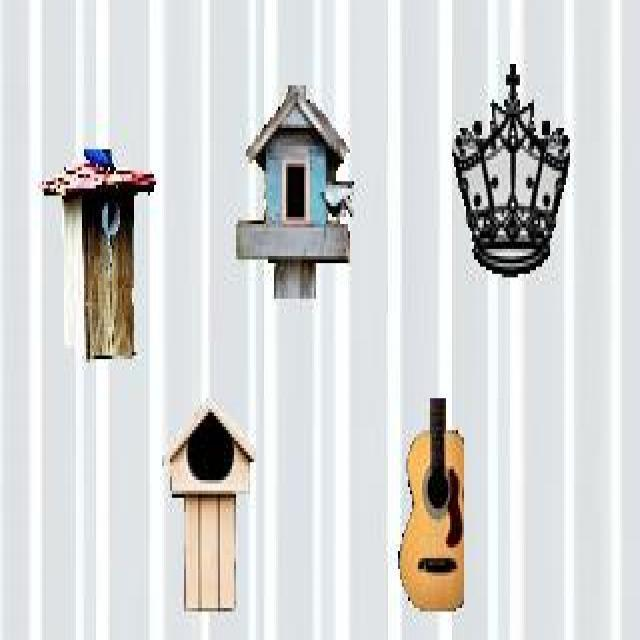Other Objects: (451, 61, 571, 280)
